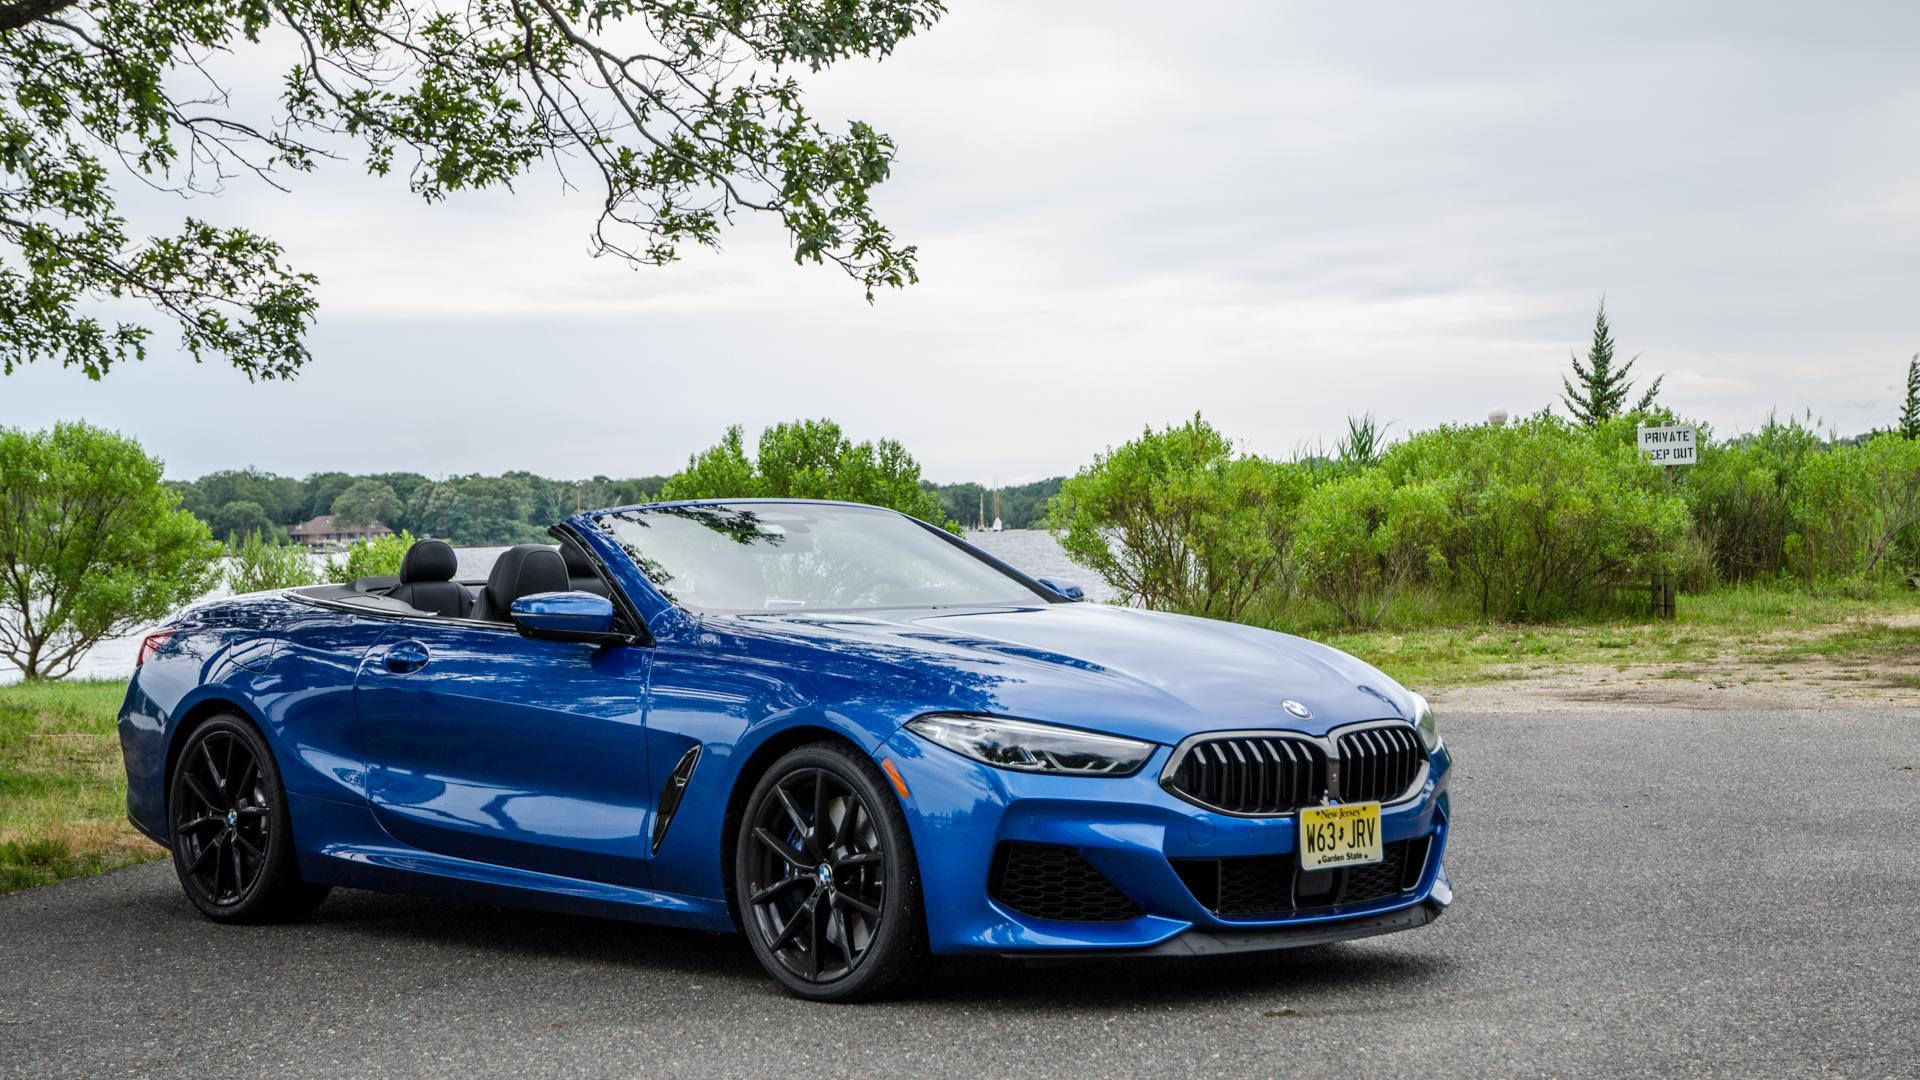car: (113, 496, 1451, 1010)
